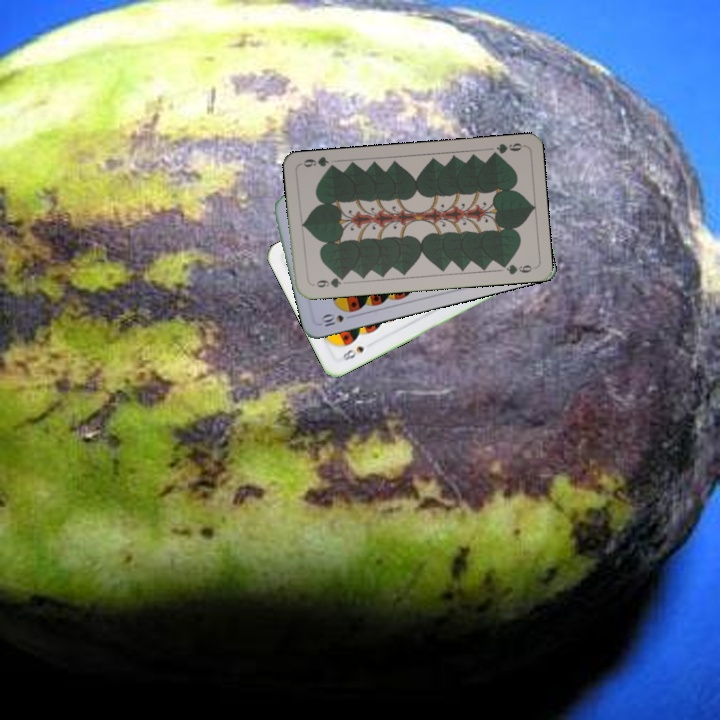G9: (486, 139, 526, 159), (308, 272, 348, 290)
S10: (317, 310, 357, 329)
S8: (334, 342, 367, 365)
